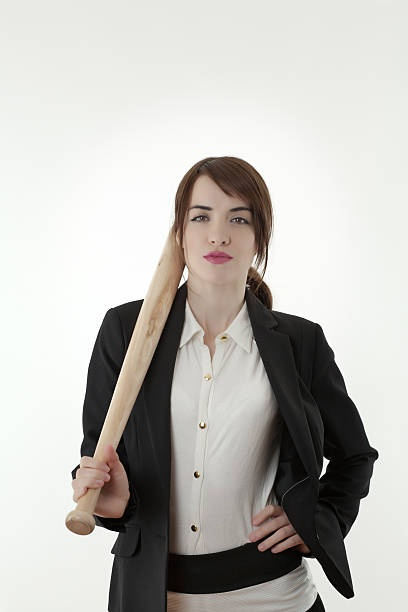bita: (66, 254, 175, 539)
